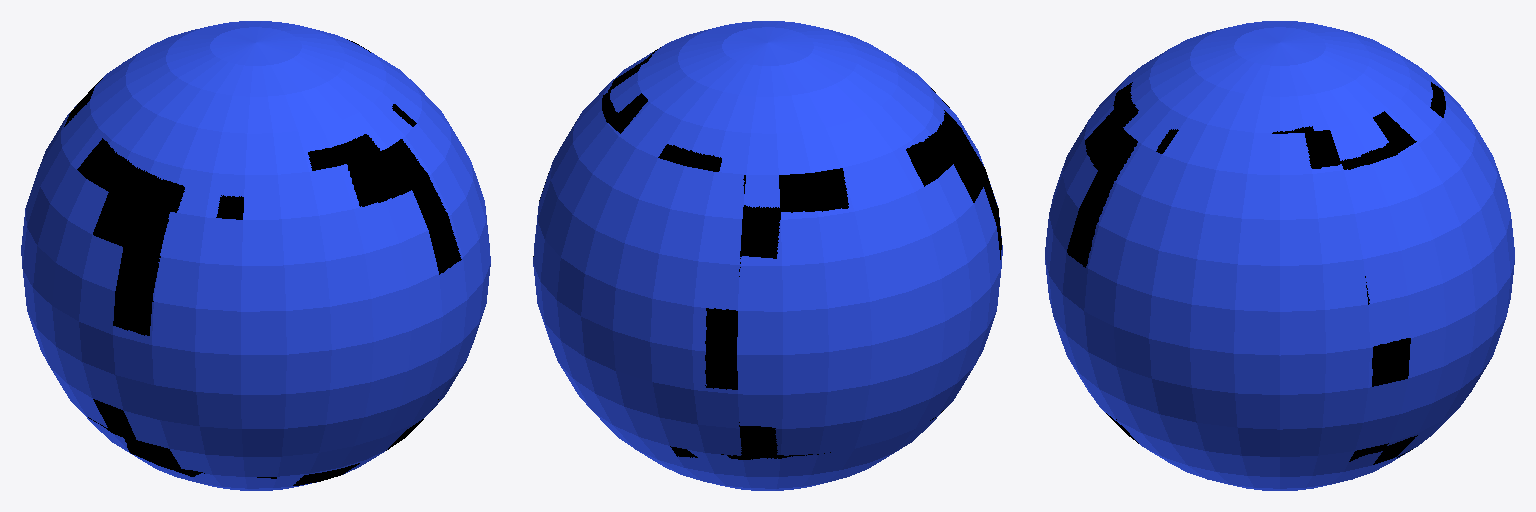
3 renders of one model, left to right at view 1: azimuth 30°, elevation 25°; view 2: azimuth 150°, elevation 25°; view 3: azimuth 270°, elevation 25°, orthographic.
Parts seen in each view (by area): view 1: 球; view 2: 球; view 3: 球.
Boxes of the visible parts, x1,y1,x2,y2 form: 球: [21, 21, 490, 490]; 球: [533, 21, 1002, 490]; 球: [1045, 21, 1514, 490].
Bounding box in the file's own units: 4 × 4 × 4.
1 materials, 1 textured.